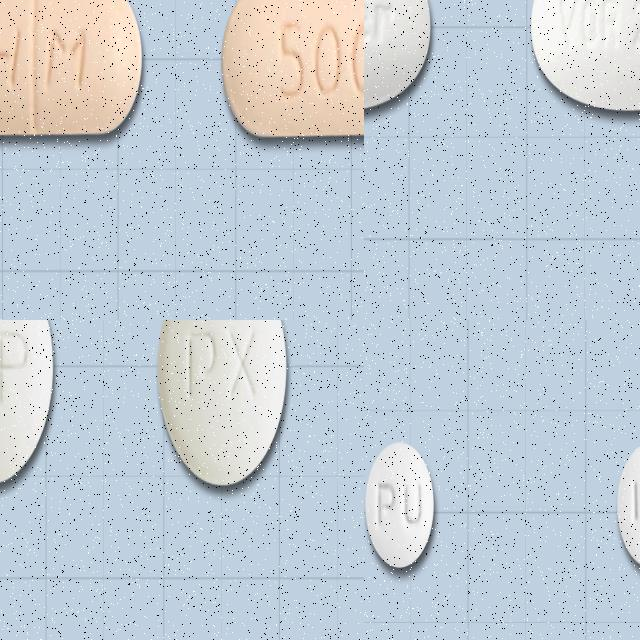Levoxacin: (221, 0, 364, 139), (0, 0, 142, 135)
Proxco Tab: (157, 320, 288, 485), (0, 320, 54, 485)
Rheumakin Tab-20mg: (365, 440, 436, 569), (617, 442, 640, 568)
Viramid Cap: (531, 0, 640, 110), (364, 0, 431, 111)
